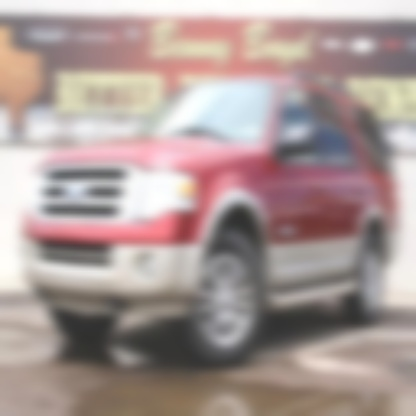Vehicle: (22, 68, 401, 366)
